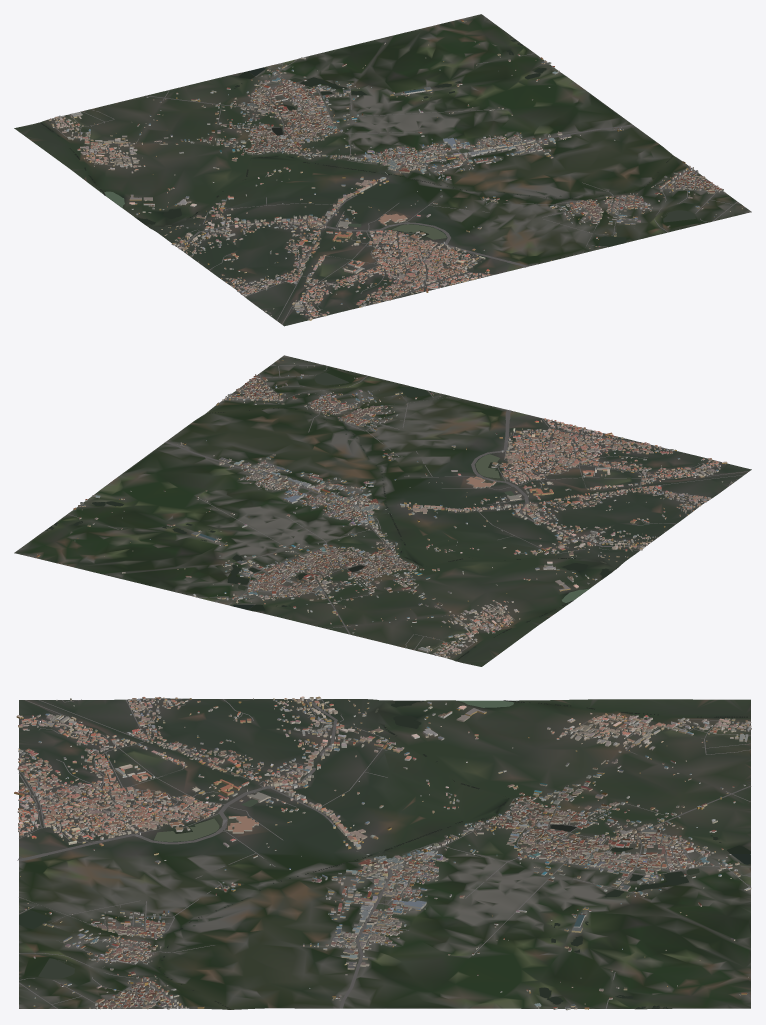
3 views of the same model, one above another, from view 1: azimuth 30°, elevation 25°; view 2: azimuth 150°, elevation 25°; view 3: azimuth 270°, elevation 25° (orthographic). The views are drawn at different scales.
Parts seen in each view (by area): view 1: ground, buildings, roads, water; view 2: ground, buildings, roads, water; view 3: ground, buildings, roads, water.
Boxes of the visible parts, bbox=[...] form: ground: bbox=[14, 14, 751, 326]; buildings: bbox=[48, 19, 742, 320]; roads: bbox=[51, 53, 737, 324]; water: bbox=[40, 36, 695, 246]; ground: bbox=[14, 355, 751, 666]; buildings: bbox=[36, 359, 737, 657]; roads: bbox=[67, 364, 748, 657]; water: bbox=[45, 372, 611, 660]; ground: bbox=[19, 698, 750, 1009]; buildings: bbox=[14, 696, 751, 1010]; roads: bbox=[17, 698, 751, 1008]; water: bbox=[19, 700, 750, 1009].
Size of the model in its own units: 2821 by 29.68 by 2827.
